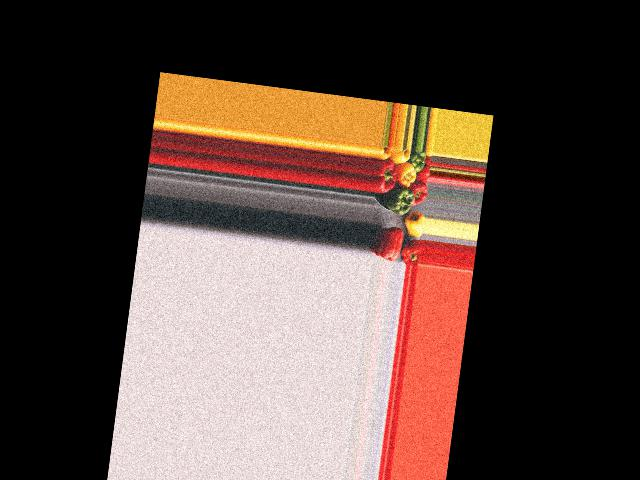bell_pepper: (400, 237, 419, 266)
